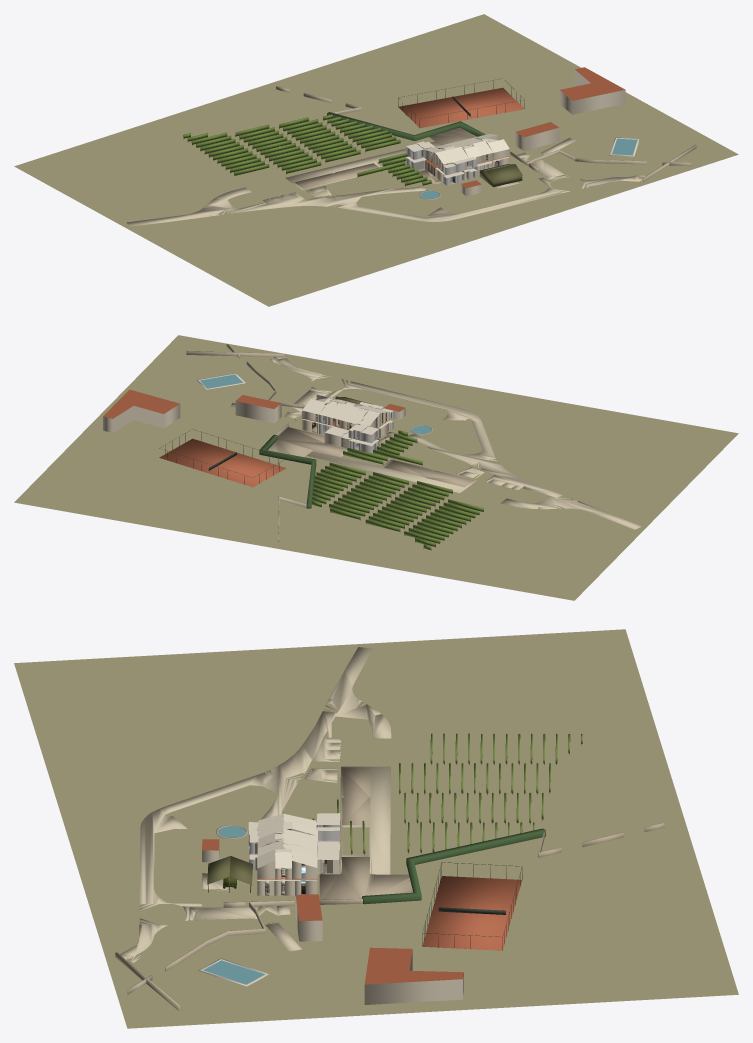
3 renders of one model, top to bottom at view 1: azimuth 30°, elevation 25°; view 2: azimuth 150°, elevation 25°; view 3: azimuth 270°, elevation 25°, orthographic. The views are drawn at different scales.
Visible parts, largest first — view 1: esterni_terreno, esterni_vigneto, esterni_strade, esterni_edifici, esterni_tennis, esterni_muri, esterni_siepi, esterni_tenda; view 2: esterni_terreno, esterni_strade, esterni_vigneto, esterni_edifici, esterni_tennis, esterni_muri, esterni_siepi, esterni_piscina; view 3: esterni_terreno, esterni_strade, esterni_tennis, esterni_edifici, esterni_vigneto, esterni_muri, esterni_siepi, esterni_tenda, esterni_piscina.
Part boxes in pixels (x1=…): esterni_terreno: x1=14, y1=14, x2=738, y2=306; esterni_vigneto: x1=183, y1=114, x2=431, y2=186; esterni_strade: x1=126, y1=127, x2=645, y2=226; esterni_edifici: x1=460, y1=67, x2=625, y2=196; esterni_tennis: x1=398, y1=78, x2=524, y2=127; esterni_muri: x1=276, y1=86, x2=696, y2=181; esterni_siepi: x1=327, y1=112, x2=485, y2=140; esterni_tenda: x1=479, y1=164, x2=522, y2=187; esterni_terreno: x1=14, y1=335, x2=738, y2=600; esterni_strade: x1=230, y1=357, x2=641, y2=529; esterni_vigneto: x1=311, y1=430, x2=483, y2=550; esterni_edifici: x1=103, y1=389, x2=405, y2=433; esterni_tennis: x1=159, y1=429, x2=286, y2=487; esterni_muri: x1=186, y1=344, x2=388, y2=541; esterni_siepi: x1=259, y1=434, x2=316, y2=508; esterni_piscina: x1=197, y1=373, x2=245, y2=389; esterni_terreno: x1=14, y1=629, x2=738, y2=1028; esterni_strade: x1=120, y1=647, x2=412, y2=962; esterni_tennis: x1=422, y1=862, x2=522, y2=950; esterni_edifici: x1=202, y1=839, x2=463, y2=1004; esterni_vigneto: x1=312, y1=733, x2=582, y2=854; esterni_muri: x1=115, y1=781, x2=664, y2=1010; esterni_siepi: x1=362, y1=828, x2=545, y2=904; esterni_tenda: x1=207, y1=856, x2=252, y2=892; esterni_piscina: x1=198, y1=958, x2=269, y2=986.
Bounding box in the file's own units: 189 × 8.09 × 145.
Materials: 355 (91 with a texture image).
